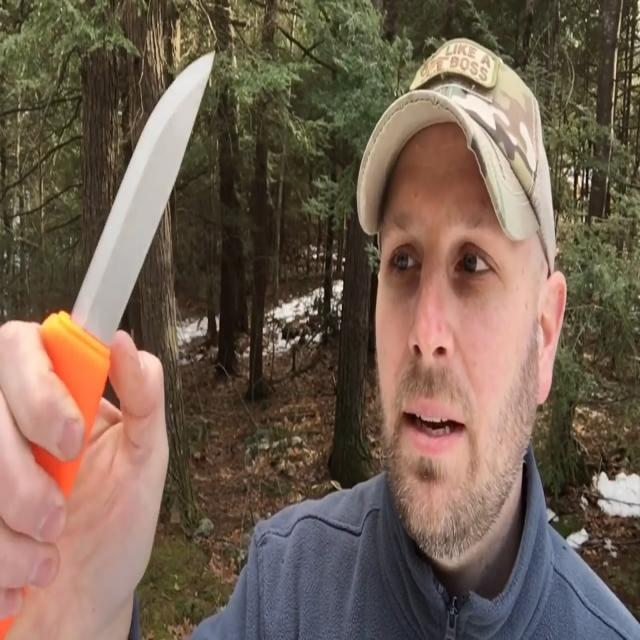knife: (33, 46, 219, 480)
